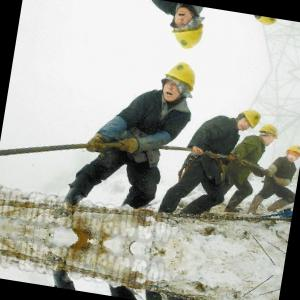helmet: (157, 54, 205, 112), (165, 3, 213, 58), (234, 104, 266, 135), (257, 121, 282, 147), (250, 15, 280, 30), (284, 141, 300, 165)
